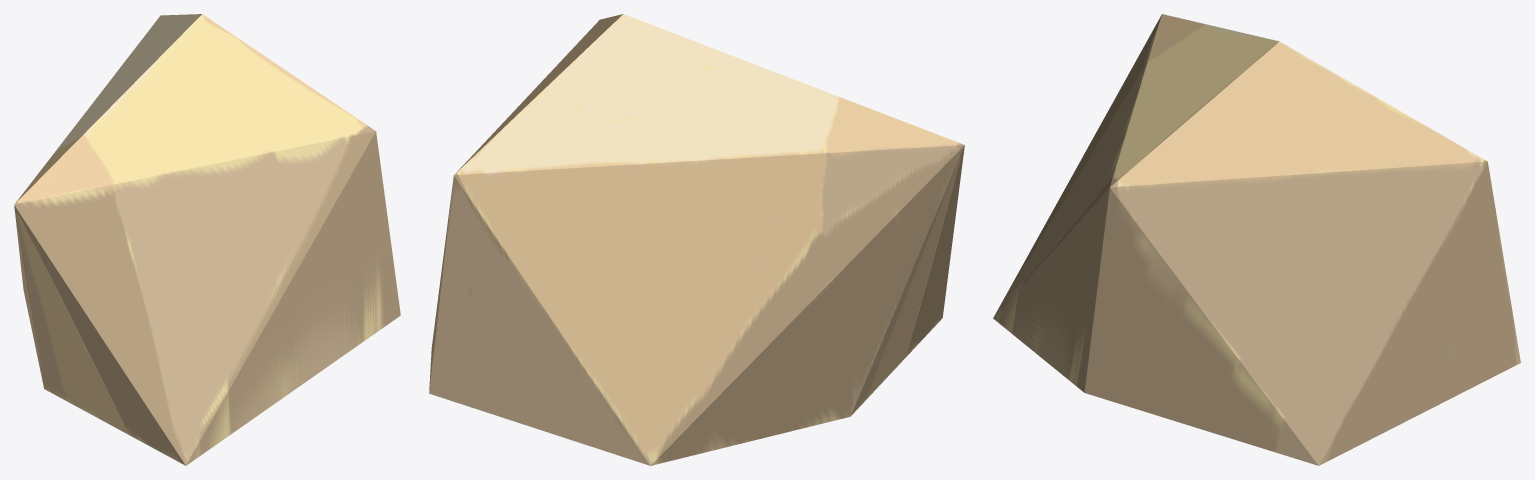
Rendered from Stone2@Model.fbx.
The picture shows the model from 3 angles, left to right: view 1: azimuth 30°, elevation 25°; view 2: azimuth 150°, elevation 25°; view 3: azimuth 270°, elevation 25°; orthographic projection. The views are drawn at different scales.
Visible parts, largest first — view 1: Stone2; view 2: Stone2; view 3: Stone2.
Part boxes in pixels (left/top/right/bottom): Stone2: left=14, top=14, right=400, bottom=465; Stone2: left=429, top=14, right=964, bottom=465; Stone2: left=993, top=14, right=1520, bottom=465.
Bounding box in the file's own units: 55.69 × 43.98 × 59.13.
